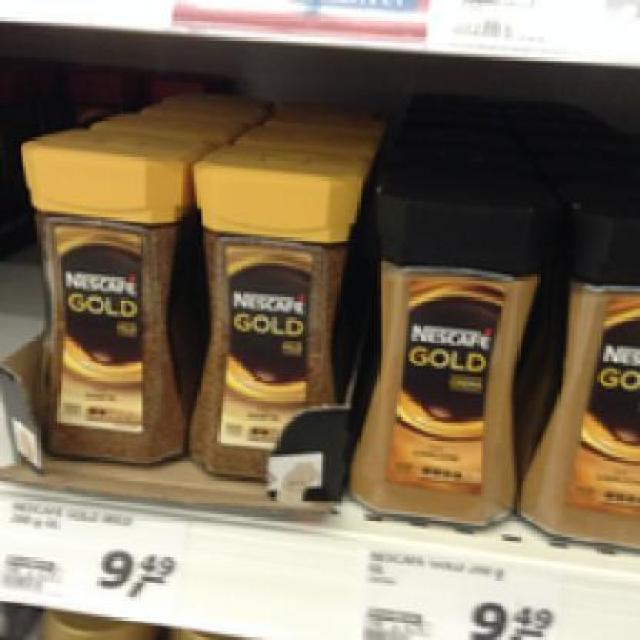Coffee: (348, 174, 528, 526), (12, 123, 192, 463), (189, 139, 354, 472), (514, 208, 637, 546)
